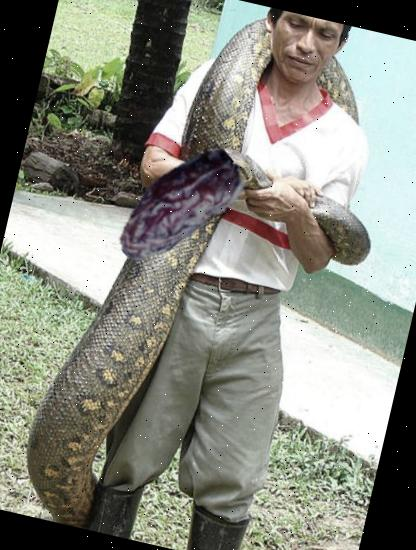Dates: (92, 120, 263, 292)
